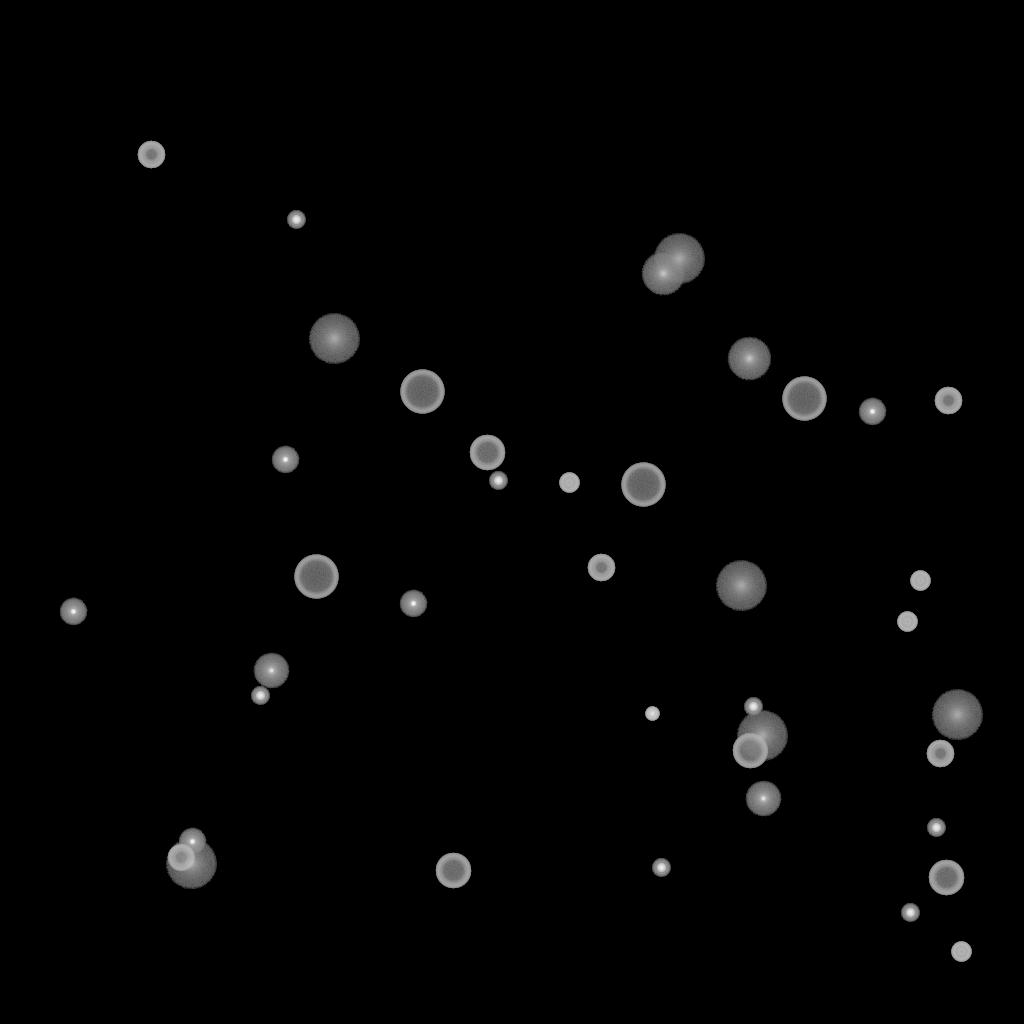depth:-10: (858, 398, 886, 426), (59, 598, 87, 626), (178, 828, 206, 856), (271, 446, 299, 474), (399, 590, 427, 618)
depth:-20: (489, 472, 507, 490), (652, 859, 670, 877), (901, 904, 919, 922), (251, 687, 269, 705), (744, 698, 762, 716), (287, 211, 305, 229), (927, 819, 945, 837)
depth:-30: (645, 707, 659, 721)
depth:-40: (910, 571, 930, 591), (559, 473, 579, 493), (897, 612, 917, 632), (951, 942, 971, 962)
depth:-50: (167, 844, 195, 872), (926, 740, 954, 768), (934, 387, 962, 415), (137, 141, 165, 169), (587, 554, 615, 582)
depth:-60: (469, 435, 505, 471), (928, 860, 964, 896), (732, 733, 768, 769), (435, 853, 471, 889)
depth:-70: (294, 555, 338, 599), (782, 377, 826, 421), (621, 463, 665, 507), (400, 370, 444, 414)
depth:0: (745, 781, 781, 817), (253, 653, 289, 689)
depth:10: (727, 337, 771, 381), (641, 252, 685, 296)
depth:20: (715, 561, 767, 611), (653, 234, 705, 284), (165, 839, 217, 889), (931, 690, 983, 740), (736, 711, 788, 761), (308, 314, 360, 364)
